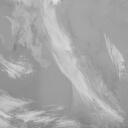cyclone: (40, 41, 94, 99)
